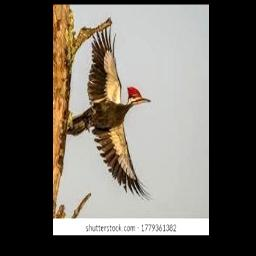Woodpecker: (65, 25, 153, 203)
